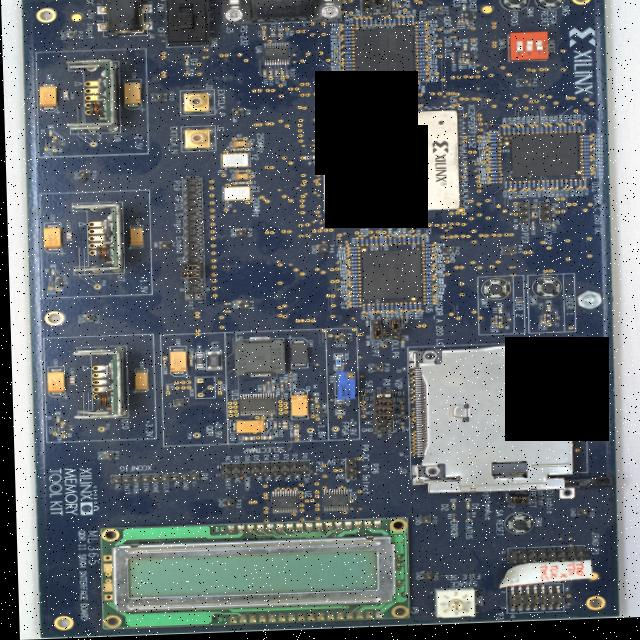-component text- -0 N-: (542, 51, 547, 59)
-component text- -1 2 3-: (515, 55, 541, 61)
-component text- -106 16K 129-: (129, 232, 139, 242), (134, 376, 143, 386)
-component text- -107C N48Y2-: (47, 377, 59, 389), (44, 234, 56, 245), (41, 92, 52, 103)
-component text- -22Y 6K 313-: (239, 424, 255, 433)
-component text- -2R5SA 6 3913J-: (234, 348, 279, 374)
-component text- -337 6K 146-: (290, 402, 302, 412), (169, 359, 180, 369), (126, 90, 136, 100)
-component text- -747844-2-: (261, 10, 300, 17)
-component text- -E EG-2121 200 000P OHPA42AA-: (226, 190, 245, 200)
-component text- -E EG-2121 250 000P OHPA42BA-: (223, 157, 244, 167)
-component text- -LCX 591 PWER-: (272, 500, 284, 510), (323, 498, 335, 507)
-component text- -MAXIM MAX3316E CUP 252-: (266, 50, 287, 58)
-component text- -MXJ 588-: (540, 370, 560, 386)
-component text- -SAMSUNG 422 K7R323684M-FC20-: (517, 154, 570, 169), (377, 35, 396, 74), (376, 258, 395, 297)
-component text- -XILINX VIRTEX-II PRO XC2VP20TM FF1152BGB0333 D1276371A 6C Powe: (328, 128, 446, 207)
-component text- -Y 102-: (343, 384, 349, 400)
-component text- 0: (435, 605, 442, 610)
-component text- 1: (439, 598, 447, 603)
-component text- 100: (335, 407, 339, 412)
-component text- 16: (212, 618, 222, 624)
-component text- 2: (448, 595, 454, 599)
-component text- 22R6: (195, 359, 200, 365)
-component text- 2R2J: (207, 358, 214, 367)
-component text- 3: (457, 598, 463, 602)
-component text- 32: (209, 528, 222, 533)
-component text- 342C: (338, 386, 343, 400)
-component text- 4: (460, 604, 467, 608)
-component text- 4750: (333, 361, 338, 368)
-component text- 5: (458, 611, 464, 616)
-component text- 6: (449, 615, 454, 619)
-component text- 7: (439, 611, 445, 617)
-component text- T2: (395, 584, 401, 588)
-component text- T4: (395, 564, 401, 569)
-component text- T5: (396, 559, 401, 563)
-electrolytic capacitor- C28: (286, 391, 305, 421)
-electrolytic capacitor- C287: (132, 369, 146, 393)
-electrolytic capacitor- C29: (121, 79, 142, 112)
-electrolytic capacitor- C297: (166, 347, 184, 378)
-electrolytic capacitor- C3: (228, 142, 248, 149)
-electrolytic capacitor- C346: (127, 226, 142, 250)
-electrolytic capacitor- C357: (42, 222, 60, 254)
-electrolytic capacitor- C361: (38, 82, 57, 112)
-electrolytic capacitor- C363: (44, 367, 63, 397)
-electrolytic capacitor- C376: (226, 420, 268, 435)
-electrolytic capacitor- C386: (287, 339, 305, 371)
-electrolytic capacitor- C4: (230, 175, 250, 181)
-test point- P13: (94, 427, 102, 433)
-test point- P14: (91, 284, 99, 291)
-test point- P15: (88, 141, 96, 148)
-test point- P16: (302, 430, 312, 437)
-test point- P17: (327, 428, 337, 435)
-test point- P18: (189, 434, 197, 440)
-test point- UNKNOWN: (478, 7, 494, 19), (68, 12, 83, 24), (69, 12, 83, 23)
2030: (272, 386, 276, 390)
2032: (285, 376, 289, 384)
2034: (423, 292, 430, 294)
2035: (423, 271, 430, 273)
2037: (422, 254, 430, 256)
2038: (423, 288, 430, 290)
2039: (422, 247, 430, 249)
2044: (358, 241, 361, 247)
2046: (419, 239, 422, 245)
2048: (414, 240, 418, 246)
2050: (405, 240, 408, 246)
2051: (363, 241, 366, 247)
2052: (284, 33, 288, 38), (380, 339, 383, 344)
2053: (353, 241, 356, 247)
2054: (360, 308, 363, 313)
2057: (343, 40, 350, 43)
2059: (343, 44, 351, 46)
2061: (284, 72, 287, 77), (345, 78, 352, 80)
2062: (343, 54, 351, 56)
2063: (344, 61, 351, 63)
2064: (343, 64, 351, 67)
2065: (344, 71, 351, 74)
2067: (344, 85, 352, 87)
2069: (389, 88, 392, 93)
2070: (403, 87, 405, 92)
2073: (356, 89, 359, 94)
2075: (365, 88, 368, 93)
2076: (398, 88, 401, 93)
2077: (412, 87, 415, 93)
2078: (351, 88, 354, 94)
2082: (360, 88, 363, 94)
2084: (370, 88, 373, 93)
2086: (393, 88, 396, 93)
2088: (407, 87, 410, 92)
2089: (416, 86, 419, 92)
2092: (571, 130, 575, 134)
2094: (562, 130, 565, 135)
2096: (557, 130, 560, 135)
2098: (543, 131, 546, 136)
2100: (398, 322, 401, 326)
2101: (538, 130, 542, 135)
2103: (529, 131, 533, 137)
2105: (520, 131, 523, 136)
2107: (510, 132, 514, 137)
2109: (501, 132, 505, 137)
2111: (349, 249, 355, 252)
2112: (581, 174, 589, 176)
2113: (488, 147, 496, 149)
2114: (489, 164, 497, 166)
2115: (489, 175, 497, 177)
2116: (489, 141, 497, 143)
2118: (489, 151, 496, 153)
2120: (489, 171, 497, 173)
2121: (488, 137, 496, 139)
2124: (489, 154, 496, 156)
2125: (489, 168, 497, 170)
2126: (489, 185, 497, 187)
2127: (581, 177, 589, 180)
2128: (349, 270, 356, 272)
2129: (386, 241, 390, 246)
2130: (391, 241, 394, 246)
2131: (392, 308, 396, 312)
2132: (387, 308, 391, 312)
2133: (369, 308, 372, 313)
2134: (411, 307, 414, 312)
2135: (401, 307, 405, 312)
2136: (378, 308, 381, 313)
2142: (384, 88, 387, 93)
2143: (379, 87, 382, 94)
2144: (354, 23, 358, 28)
2145: (349, 277, 356, 279)
2148: (489, 158, 497, 160)
2149: (489, 161, 496, 163)
2151: (581, 157, 588, 159)
2152: (580, 143, 588, 145)
2153: (581, 153, 589, 156)
2154: (581, 150, 588, 152)
2155: (581, 163, 589, 166)
2157: (348, 280, 356, 283)
2161: (359, 22, 362, 28)
2162: (415, 307, 419, 312)
2164: (364, 308, 368, 313)
2168: (406, 21, 409, 27)
2170: (349, 290, 356, 293)
2173: (406, 307, 410, 312)
2175: (582, 180, 590, 183)
2178: (581, 147, 588, 149)
2179: (348, 256, 355, 259)
2181: (348, 263, 356, 265)
2182: (349, 294, 356, 296)
2184: (581, 140, 588, 142)
2185: (349, 301, 357, 303)
2187: (349, 253, 355, 255)
2190: (348, 260, 356, 262)
2192: (348, 266, 355, 269)
2194: (348, 273, 356, 276)
2196: (349, 283, 356, 286)
2198: (349, 287, 356, 289)
2201: (349, 297, 356, 300)
2203: (349, 304, 356, 306)
2205: (349, 308, 357, 310)
2207: (423, 306, 430, 308)
2209: (423, 302, 430, 304)
2212: (423, 295, 430, 297)
2214: (423, 285, 430, 287)
2216: (423, 282, 429, 284)
2223: (422, 265, 429, 267)
2225: (422, 258, 430, 260)
2234: (581, 170, 589, 173), (263, 385, 267, 391), (282, 384, 285, 391), (363, 22, 367, 27), (400, 240, 403, 246), (396, 240, 399, 246), (489, 178, 497, 180), (489, 182, 497, 184), (581, 167, 589, 169), (417, 69, 425, 71), (417, 73, 425, 75), (417, 76, 425, 78), (422, 261, 430, 263), (373, 308, 377, 312), (534, 131, 537, 136), (372, 13, 375, 18), (410, 21, 413, 26), (397, 21, 400, 26), (392, 22, 395, 27), (387, 22, 390, 27), (383, 22, 386, 27), (378, 22, 381, 27), (373, 22, 376, 27), (369, 22, 372, 27), (375, 88, 378, 93), (409, 240, 412, 245), (382, 241, 385, 246), (377, 241, 380, 246), (372, 241, 375, 246), (367, 241, 370, 246), (397, 308, 400, 313), (489, 144, 496, 146), (581, 160, 588, 162), (417, 32, 424, 34), (417, 38, 424, 40), (417, 42, 424, 44), (417, 49, 424, 51), (417, 52, 424, 54), (417, 56, 424, 58), (417, 59, 424, 61), (417, 62, 424, 64), (417, 79, 424, 81), (422, 251, 429, 253), (423, 268, 430, 270), (423, 299, 430, 301), (423, 275, 429, 277), (423, 278, 429, 280), (383, 308, 386, 312), (402, 22, 404, 26), (391, 0, 394, 2)
2243: (506, 35, 548, 66)
2247: (163, 0, 208, 49)
2249: (52, 109, 60, 116), (56, 250, 64, 257), (58, 394, 66, 401), (138, 107, 145, 114), (283, 337, 291, 343), (180, 375, 188, 381), (265, 418, 272, 424), (224, 147, 229, 151), (226, 179, 230, 184), (129, 391, 133, 395), (126, 248, 130, 251)
2252: (346, 421, 354, 439), (211, 422, 219, 440)
2259: (137, 276, 146, 295)
2260: (314, 424, 322, 441)
2270: (133, 133, 142, 151), (323, 461, 341, 468), (390, 430, 406, 435)
2277: (140, 421, 151, 439)
2289: (374, 6, 379, 17), (363, 338, 368, 349), (512, 222, 516, 233)
2341: (84, 0, 94, 40)
2342: (357, 457, 367, 497)
2352: (534, 494, 550, 519)
2365: (166, 127, 177, 155)
2366: (214, 91, 224, 118)
2370: (435, 577, 476, 584)
2380: (171, 196, 182, 265)
2398: (587, 536, 595, 560)
2423: (83, 530, 96, 566)
2514: (430, 309, 441, 349)
2515: (440, 19, 451, 61)
2516: (590, 198, 600, 239)
2517: (73, 530, 85, 621)
2524: (239, 27, 247, 48)
2542: (491, 513, 500, 540)
2594: (563, 300, 571, 320)
2595: (512, 301, 521, 321)
2598: (186, 482, 194, 488)
2612: (44, 467, 91, 518)
2644: (195, 302, 200, 305), (427, 615, 431, 618), (209, 5, 215, 7), (147, 2, 153, 4), (192, 177, 198, 179), (515, 494, 521, 496), (496, 610, 501, 612), (400, 458, 405, 460), (430, 74, 432, 79), (582, 558, 584, 562), (457, 117, 461, 119), (383, 390, 387, 392), (307, 472, 309, 476)
2655: (568, 179, 574, 182), (457, 144, 461, 148)
2661: (461, 147, 466, 151)
2671: (560, 608, 566, 613), (457, 150, 461, 154)
2673: (44, 289, 49, 295)
2680: (560, 591, 565, 596), (461, 153, 465, 157)
2682: (457, 155, 462, 159), (496, 562, 502, 565)
2685: (461, 158, 466, 162), (497, 554, 501, 558)
2690: (212, 474, 218, 479), (458, 161, 462, 165)
2692: (212, 466, 218, 471), (462, 164, 466, 168)
2693: (458, 166, 462, 170)
2695: (330, 30, 338, 33)
2700: (503, 508, 511, 512), (582, 551, 585, 555), (307, 463, 310, 467), (183, 177, 189, 179), (497, 595, 502, 597), (373, 390, 378, 392), (208, 19, 213, 21), (96, 4, 101, 6), (460, 120, 464, 122)
2701: (462, 169, 466, 173)
2704: (250, 199, 259, 219)
2706: (458, 172, 462, 176)
2707: (331, 74, 339, 77)
2710: (462, 175, 466, 179)
2714: (457, 177, 462, 181)
2715: (462, 181, 467, 185)
2718: (393, 372, 399, 376), (457, 183, 462, 187)
2719: (255, 134, 263, 155)
2721: (462, 186, 466, 190), (395, 455, 399, 459)
2722: (458, 189, 462, 193)
2723: (462, 192, 466, 196)
2724: (458, 194, 462, 198)
2726: (159, 368, 165, 376)
2728: (208, 32, 214, 34), (384, 28, 389, 30), (457, 122, 461, 124), (470, 615, 474, 617), (96, 21, 100, 23)
2729: (462, 198, 467, 202), (264, 391, 268, 395)
2732: (383, 436, 389, 440), (458, 200, 462, 204), (203, 289, 207, 293)
2733: (373, 436, 379, 440), (176, 289, 182, 293), (462, 202, 467, 206)
2734: (459, 205, 463, 209), (373, 302, 377, 306)
2736: (462, 209, 466, 213)
2745: (146, 20, 152, 22), (159, 0, 164, 2), (380, 29, 384, 31), (376, 29, 380, 31), (366, 29, 370, 31), (361, 29, 365, 31), (460, 125, 464, 127), (470, 593, 474, 595)
2750: (479, 143, 485, 147)
2754: (389, 28, 393, 31)
2756: (301, 25, 305, 29), (159, 21, 165, 23), (457, 128, 461, 130)
2757: (398, 370, 403, 374)
2759: (371, 29, 375, 32)
2762: (331, 476, 341, 482)
2766: (426, 594, 430, 597), (160, 41, 165, 43), (460, 131, 464, 133)
2769: (456, 134, 461, 136)
2775: (460, 136, 465, 138)
2779: (375, 100, 379, 104)
2784: (457, 139, 461, 141)
2791: (449, 110, 453, 113)
2808: (373, 112, 377, 116)
2809: (369, 109, 373, 113)
2810: (365, 112, 369, 116)
2813: (361, 109, 365, 113)
2817: (357, 112, 361, 116)
2818: (353, 109, 357, 113)
2819: (350, 112, 354, 116)
2820: (346, 109, 350, 114)
2821: (342, 113, 346, 117)
2822: (334, 113, 338, 117)
2823: (330, 110, 334, 114)
2824: (327, 113, 331, 117)
2826: (323, 111, 327, 115)
2833: (445, 110, 449, 112)
2837: (221, 479, 228, 491)
2843: (441, 111, 445, 113)
2844: (248, 182, 255, 186)
2845: (280, 82, 286, 88)
2856: (268, 82, 273, 88)
2867: (262, 81, 267, 87)
2878: (274, 79, 279, 86)
2889: (256, 33, 262, 39)
2955: (247, 149, 253, 153)
3036: (303, 388, 307, 394)
3044: (136, 362, 142, 370)
3047: (185, 350, 191, 356), (131, 73, 136, 79)
3055: (172, 339, 178, 347)
3057: (248, 140, 254, 144)
3069: (167, 384, 172, 390)
3086: (219, 385, 223, 393)
3107: (133, 218, 138, 226)
3117: (64, 222, 69, 230)
3118: (48, 214, 53, 222)
3119: (68, 91, 74, 100)
3120: (395, 1, 399, 7)
3121: (44, 74, 50, 82)
3122: (66, 368, 72, 376)
3123: (49, 359, 56, 367)
3125: (383, 338, 387, 345)
3126: (532, 213, 536, 220)
3131: (226, 435, 231, 443)
3132: (235, 437, 239, 445)
3133: (258, 433, 268, 437)
3134: (285, 424, 290, 432)
3136: (271, 432, 275, 440)
3137: (254, 386, 258, 394)
3138: (268, 379, 272, 387)
3139: (276, 379, 281, 387)
3140: (289, 383, 293, 391)
3141: (286, 432, 290, 440)
3142: (305, 342, 310, 350)
3153: (249, 173, 255, 176)
3188: (227, 171, 233, 175)
3199: (235, 136, 241, 140)
3245: (159, 482, 166, 494)
3266: (300, 477, 306, 485)
3267: (438, 109, 442, 111)
3268: (297, 455, 304, 461)
3269: (468, 507, 476, 513), (288, 455, 294, 461)
3270: (535, 307, 541, 313)
3271: (490, 311, 494, 317)
3280: (437, 507, 445, 514), (279, 456, 285, 462)
3287: (452, 3, 460, 11), (269, 456, 275, 462)
3288: (452, 42, 460, 50), (259, 456, 266, 462)
3290: (249, 456, 255, 463), (43, 416, 49, 420)
3291: (241, 457, 247, 463), (41, 269, 47, 273)
3292: (230, 457, 236, 464), (38, 129, 44, 133)
3293: (309, 387, 315, 391)
3294: (189, 59, 197, 68)
3306: (139, 483, 145, 493)
3315: (541, 228, 549, 238), (388, 344, 396, 354), (347, 0, 355, 2)
3316: (468, 41, 477, 55), (148, 482, 155, 495)
3326: (434, 111, 438, 113)
3355: (445, 523, 454, 541)
3358: (430, 109, 434, 112)
3430: (548, 14, 557, 29), (338, 424, 346, 438)
3438: (426, 111, 430, 113)
3439: (74, 315, 81, 325), (410, 519, 417, 528), (149, 94, 156, 103), (514, 82, 520, 92), (72, 171, 78, 181), (308, 248, 315, 256), (497, 250, 503, 259), (411, 575, 417, 584), (228, 230, 234, 239), (229, 302, 235, 311), (214, 500, 220, 509), (94, 452, 100, 461), (179, 482, 185, 491), (59, 31, 65, 40), (427, 9, 432, 19), (566, 513, 572, 521), (326, 86, 332, 94), (447, 258, 453, 266), (364, 367, 370, 375), (358, 431, 370, 435), (332, 346, 344, 350), (151, 243, 157, 249), (164, 403, 169, 410), (231, 118, 235, 124)
3446: (423, 110, 427, 112)
3482: (467, 2, 477, 16), (120, 484, 126, 496)
3488: (419, 111, 423, 113)
3489: (204, 84, 212, 91)
3501: (215, 126, 223, 134)
3510: (395, 469, 403, 477)
3513: (147, 33, 155, 41)
3514: (225, 28, 233, 36)
3554: (416, 109, 420, 111), (338, 112, 342, 114)
3559: (411, 111, 415, 113)
3561: (276, 26, 282, 30)
3563: (269, 26, 275, 30)
3564: (208, 342, 217, 351)
3565: (305, 163, 315, 168)
3566: (231, 335, 241, 341)
3586: (407, 110, 411, 112)
3593: (511, 209, 516, 215), (363, 323, 367, 329), (375, 0, 379, 2)
3595: (546, 44, 555, 58)
3627: (403, 112, 407, 114)
3628: (281, 477, 287, 484), (169, 482, 176, 488), (110, 484, 116, 491), (221, 457, 227, 463), (290, 477, 296, 483), (271, 477, 277, 483), (262, 478, 268, 484), (253, 478, 259, 484), (230, 479, 236, 485), (390, 422, 398, 426), (362, 423, 370, 427)
3629: (156, 28, 165, 39), (553, 223, 557, 229), (355, 12, 359, 18), (402, 338, 406, 344)
3631: (156, 5, 164, 13), (553, 207, 557, 212), (401, 322, 405, 327), (355, 0, 359, 2)
3635: (399, 110, 404, 112)
3638: (167, 93, 173, 102)
3639: (180, 398, 187, 405)
3640: (312, 464, 320, 475)
3641: (101, 424, 107, 430)
3642: (99, 281, 105, 287)
3643: (95, 135, 101, 141)
3644: (304, 436, 309, 442)
3645: (328, 435, 333, 441)
3646: (183, 434, 189, 440)
3647: (171, 181, 179, 192)
3649: (340, 0, 347, 2)
3651: (541, 239, 550, 249)
3652: (519, 237, 527, 247)
3655: (367, 466, 375, 476)
3656: (442, 9, 448, 18)
3657: (245, 302, 251, 312)
3658: (91, 314, 98, 325)
3659: (505, 581, 516, 588), (491, 616, 499, 624)
3660: (585, 512, 591, 521)
3661: (427, 520, 434, 528)
3662: (344, 335, 350, 344)
3663: (231, 500, 239, 511)
3664: (109, 451, 116, 461)
3665: (89, 171, 95, 180)
3666: (243, 111, 249, 117)
3667: (76, 32, 82, 40)
3668: (245, 230, 251, 238)
3669: (381, 366, 387, 374)
3671: (428, 575, 434, 584)
3672: (168, 243, 174, 249)
3673: (452, 250, 458, 259)
3674: (530, 81, 536, 92)
3675: (320, 77, 326, 86)
3676: (515, 249, 521, 257)
3677: (326, 247, 332, 255)
3678: (184, 302, 191, 311)
3680: (406, 609, 414, 618)
3685: (389, 354, 397, 361)
3686: (368, 352, 377, 360)
3687: (379, 382, 387, 389)
3688: (197, 473, 205, 482), (357, 446, 365, 454)
3746: (510, 16, 518, 30), (129, 483, 136, 495)
3753: (466, 26, 474, 33)
3755: (466, 65, 475, 73)
3756: (63, 434, 69, 438)
3757: (55, 288, 61, 292)
3758: (56, 149, 62, 153)
3759: (319, 406, 323, 410)
3760: (551, 327, 557, 331)
3761: (502, 329, 506, 333)
3763: (202, 426, 210, 438)
3765: (375, 96, 379, 98), (396, 112, 400, 114)
3766: (215, 171, 220, 175)
3768: (457, 65, 461, 73)
3769: (460, 25, 465, 33)
3780: (461, 65, 466, 73)
3781: (456, 25, 460, 33)
3782: (450, 67, 455, 75)
3793: (45, 426, 50, 434)
3794: (188, 70, 194, 78)
3795: (48, 287, 53, 295)
3797: (46, 149, 51, 157)
3798: (54, 433, 58, 441)
3799: (193, 346, 198, 354)
3800: (306, 406, 311, 412)
3801: (186, 390, 191, 398)
3803: (42, 150, 47, 158)
3805: (341, 356, 346, 364)
3806: (342, 401, 347, 408)
3807: (540, 327, 544, 334)
3808: (535, 327, 540, 334)
3809: (491, 328, 496, 336)
3810: (487, 328, 492, 337)
3811: (467, 515, 472, 521)
3822: (370, 6, 375, 12), (443, 517, 447, 523)
3833: (428, 61, 436, 65), (428, 72, 437, 75)
3834: (405, 3, 409, 11)
3836: (427, 82, 437, 86)
3844: (429, 57, 437, 62), (429, 37, 437, 41), (427, 40, 435, 44), (429, 51, 436, 55), (428, 31, 436, 34)
3855: (430, 78, 438, 83), (429, 68, 437, 72), (428, 48, 436, 51)
3860: (426, 64, 436, 69)
3864: (423, 44, 433, 47)
3867: (424, 34, 434, 37)
3869: (427, 26, 437, 31)
3871: (426, 23, 436, 27)
3873: (330, 25, 340, 29)
3877: (226, 205, 230, 209)
3879: (330, 37, 340, 41)
3881: (329, 47, 339, 51)
3883: (329, 51, 339, 53)
3885: (330, 57, 340, 60)
3887: (330, 68, 340, 71)
3892: (354, 80, 364, 85)
3894: (329, 33, 339, 37)
3896: (549, 214, 554, 221)
3897: (550, 230, 554, 237)
3898: (532, 203, 536, 211)
3899: (529, 232, 533, 239)
3901: (500, 193, 506, 202)
3903: (510, 195, 516, 203)
3905: (521, 194, 525, 202)
3907: (530, 194, 535, 202)
3909: (540, 194, 544, 201)
3912: (545, 194, 549, 202)
3914: (558, 193, 562, 201)
3916: (563, 194, 567, 201)
3917: (573, 193, 577, 201)
3919: (506, 195, 511, 203)
3922: (516, 195, 521, 203)
3924: (525, 194, 531, 202)
3926: (534, 194, 540, 202)
3928: (549, 194, 553, 202)
3930: (553, 193, 558, 202)
3933: (568, 193, 572, 201)
3935: (577, 193, 582, 200)
3937: (582, 192, 587, 200)
3939: (580, 119, 585, 127)
3944: (566, 119, 570, 127)
3946: (552, 119, 556, 128)
3948: (547, 120, 551, 128)
3950: (533, 119, 537, 128)
3952: (525, 120, 529, 128)
3955: (515, 120, 519, 128)
3957: (506, 121, 510, 129)
3986: (281, 376, 285, 382)
3992: (272, 390, 276, 398)
3993: (435, 276, 443, 281)
3994: (290, 375, 294, 383)
3995: (279, 395, 286, 402)
3996: (275, 432, 280, 440)
3997: (435, 259, 443, 264), (435, 266, 443, 271)
3998: (432, 291, 442, 294)
3999: (433, 287, 444, 291)
4000: (433, 270, 443, 274)
4001: (381, 247, 386, 254), (395, 231, 399, 237)
4002: (429, 253, 439, 256)
4004: (433, 246, 443, 250)
4006: (408, 247, 414, 253), (400, 230, 404, 237), (372, 248, 376, 254), (368, 248, 372, 254)
4009: (358, 231, 362, 239)
4010: (377, 235, 381, 241)
4011: (422, 238, 427, 246)
4013: (413, 232, 419, 241)
4015: (405, 234, 409, 241)
4016: (576, 118, 580, 126)
4017: (362, 231, 366, 239)
4018: (288, 32, 294, 38), (377, 344, 381, 349)
4019: (349, 240, 353, 248)
4020: (358, 315, 362, 323)
4023: (330, 40, 340, 44)
4025: (329, 44, 339, 47)
4027: (287, 71, 295, 79), (338, 78, 346, 82)
4028: (329, 53, 340, 57)
4029: (330, 60, 340, 63)
4030: (329, 64, 339, 68)
4031: (330, 71, 340, 74)
4033: (341, 87, 351, 90)
4035: (389, 95, 393, 103)
4036: (402, 95, 408, 103)
4039: (356, 100, 361, 107)
4041: (365, 96, 369, 104)
4042: (398, 95, 403, 103)
4043: (412, 95, 416, 104)
4044: (352, 97, 356, 105)
4047: (396, 314, 400, 320), (398, 345, 402, 351)
4048: (360, 95, 365, 104)
4050: (369, 96, 374, 104)
4052: (393, 95, 399, 104)
4054: (408, 96, 412, 104)
4055: (420, 88, 424, 96)
4056: (411, 12, 415, 18), (381, 323, 385, 329)
4058: (571, 118, 575, 126)
4060: (562, 119, 566, 127)
4062: (557, 119, 561, 126)
4064: (543, 120, 547, 128)
4066: (398, 327, 402, 333)
4067: (538, 120, 542, 128)
4069: (529, 120, 533, 128)
4071: (520, 120, 524, 128)
4073: (511, 122, 515, 129)
4075: (501, 121, 505, 129)
4077: (335, 249, 343, 252)
4078: (591, 173, 601, 176)
4079: (476, 146, 486, 150)
4080: (470, 163, 480, 166)
4081: (477, 173, 487, 178)
4082: (479, 139, 489, 143)
4083: (479, 180, 487, 185)
4084: (475, 149, 485, 154)
4086: (473, 171, 483, 174)
4087: (487, 133, 497, 137)
4089: (479, 177, 487, 181)
4090: (498, 153, 508, 157)
4091: (479, 167, 489, 170)
4092: (478, 184, 488, 189)
4093: (592, 177, 602, 180)
4094: (336, 269, 345, 273), (383, 315, 387, 321)
4095: (385, 231, 390, 239)
4096: (391, 234, 395, 241)
4097: (392, 312, 396, 319)
4098: (387, 315, 391, 322)
4099: (368, 315, 372, 322)
4100: (412, 315, 416, 323)
4101: (402, 315, 406, 323)
4102: (378, 313, 383, 320)
4103: (402, 13, 406, 19)
4108: (384, 96, 389, 104)
4109: (380, 96, 384, 104)
4110: (344, 16, 348, 24)
4111: (337, 276, 345, 280), (397, 12, 401, 18)
4114: (479, 156, 489, 161)
4115: (475, 161, 485, 164)
4116: (593, 169, 601, 173), (594, 159, 602, 162), (593, 166, 601, 169)
4117: (591, 156, 601, 159)
4118: (591, 142, 601, 146)
4119: (591, 152, 601, 156)
4120: (591, 149, 601, 152)
4121: (591, 162, 601, 166)
4123: (340, 279, 348, 283)
4128: (348, 20, 352, 26)
4129: (416, 315, 420, 322)
4131: (364, 314, 368, 322)
4135: (406, 13, 410, 21)
4137: (426, 54, 434, 58), (336, 291, 345, 294)
4139: (592, 138, 602, 141)
4141: (407, 312, 411, 320)
4143: (591, 180, 601, 183)
4146: (591, 146, 601, 149)
4147: (334, 256, 344, 259)
4149: (335, 263, 345, 266)
4150: (327, 378, 331, 386)
4151: (337, 294, 345, 297)
4153: (340, 300, 348, 303)
4155: (335, 252, 343, 256)
4158: (336, 259, 344, 262)
4160: (336, 266, 345, 270)
4162: (337, 273, 345, 276)
4164: (337, 283, 345, 287)
4166: (337, 287, 345, 291)
4169: (338, 297, 346, 301)
4171: (337, 304, 345, 308)
4173: (338, 308, 346, 312)
4175: (432, 305, 440, 309)
4177: (432, 300, 440, 304)
4179: (435, 274, 441, 277)
4180: (433, 294, 441, 298)
4182: (433, 284, 441, 288)
4184: (433, 280, 441, 285)
4190: (433, 250, 439, 253), (435, 298, 440, 301)
4191: (432, 263, 440, 267)
4193: (432, 257, 440, 260)
4202: (240, 479, 247, 493)
4204: (524, 495, 533, 513), (540, 15, 548, 32)
4240: (362, 383, 370, 390)
4242: (239, 448, 281, 455)
4263: (460, 523, 469, 543)
4266: (530, 521, 538, 531)
4270: (470, 599, 479, 610)
4271: (497, 42, 506, 52)
4272: (525, 11, 533, 21)
4273: (561, 9, 569, 20)
4274: (527, 299, 535, 309)
4275: (477, 302, 486, 312)
4276: (209, 39, 217, 49)
4281: (445, 583, 474, 591)
4283: (478, 495, 489, 524)
4284: (392, 110, 396, 112)
4298: (545, 568, 554, 584), (391, 407, 402, 411), (359, 406, 370, 410)
4299: (563, 566, 571, 581), (391, 394, 402, 399), (357, 399, 369, 403)
4300: (572, 567, 580, 581), (357, 392, 369, 396), (390, 401, 401, 405)
4302: (535, 567, 545, 585), (390, 416, 402, 420), (358, 414, 370, 418)
4340: (388, 112, 392, 114)
4342: (117, 419, 127, 430)
4343: (418, 14, 426, 24)
4344: (589, 186, 597, 196)
4345: (228, 391, 236, 403)
4352: (300, 492, 308, 501)
4363: (345, 495, 353, 503)
4367: (254, 47, 262, 56)
4368: (422, 308, 431, 316)
4369: (448, 99, 456, 107)
4370: (114, 275, 123, 283)
4372: (112, 135, 120, 143)
4384: (384, 110, 388, 112)
4385: (391, 382, 399, 392)
4402: (380, 112, 384, 115)
4404: (555, 577, 563, 582)
4413: (466, 108, 475, 152)
4414: (115, 465, 150, 472)
4415: (571, 53, 593, 99)
4421: (377, 110, 381, 113)
4422: (251, 188, 259, 194)
4424: (249, 155, 257, 163)
4433: (519, 228, 527, 236), (368, 344, 376, 352)
4436: (505, 618, 511, 622)
4440: (463, 16, 475, 26)
4443: (465, 55, 477, 66)
4444: (57, 425, 71, 434)
4445: (52, 279, 64, 288)
4447: (50, 140, 63, 149)
4448: (312, 410, 324, 419)
4449: (543, 317, 557, 327)
4450: (495, 319, 508, 328)
4480: (69, 346, 126, 420)
4487: (69, 202, 122, 276)
4488: (63, 60, 120, 136)
button SW1: (500, 516, 530, 539)
button SW4: (499, 0, 529, 15)
button SW5: (532, 0, 565, 15)
button SW6: (528, 280, 560, 303)
button SW7: (477, 281, 510, 304)
capacitor: (185, 360, 191, 368), (390, 3, 395, 11)
capacitor C10: (234, 183, 246, 186)
capacitor C100: (279, 71, 283, 79)
capacitor C110: (267, 71, 271, 79)
capacitor C120: (261, 71, 266, 79)
capacitor C130: (273, 71, 278, 79)
capacitor C140: (261, 31, 265, 39)
capacitor C20: (233, 149, 245, 153)
capacitor C299: (159, 360, 165, 368)
capacitor C310: (162, 385, 166, 393)
capacitor C328: (214, 385, 218, 394)
capacitor C359: (64, 231, 70, 241)
capacitor C36: (61, 90, 67, 100)
capacitor C364: (66, 376, 73, 385)
capacitor C369: (379, 330, 384, 338)
capacitor C37: (528, 215, 533, 223)
capacitor C378: (239, 438, 252, 442)
capacitor C379: (257, 437, 270, 441)
capacitor C38: (279, 422, 285, 432)
capacitor C381: (270, 423, 274, 431)
capacitor C382: (259, 386, 263, 394)
capacitor C383: (268, 386, 272, 394)
capacitor C384: (277, 387, 281, 394)
capacitor C385: (285, 385, 288, 390)
capacitor C39: (290, 430, 296, 440)
capacitor C50: (237, 172, 244, 174)
capacitor C60: (234, 140, 241, 142)
clock Y1o: (220, 187, 250, 203)
clock Y3: (218, 154, 249, 170)
connector: (192, 378, 211, 400)
connector J10: (178, 91, 214, 118)
connector J20: (178, 127, 216, 154)
connector J30: (402, 343, 588, 498)
connector J5: (94, 0, 151, 38)
connector J6: (220, 0, 341, 28)
connector P10: (502, 549, 582, 567)
connector P11: (153, 94, 166, 103)
connector P12: (170, 400, 182, 408)
connector P13: (217, 461, 307, 480)
connector P2: (179, 179, 203, 265)
connector P21: (360, 10, 371, 18)
connector P22: (378, 0, 390, 17)
connector P23: (537, 206, 549, 228)
connector P24: (516, 206, 528, 228)
connector P28: (430, 10, 442, 18)
connector P29: (235, 302, 248, 310)
connector P3: (81, 315, 92, 323)
connector P30: (502, 587, 560, 618)
connector P31: (572, 511, 584, 520)
connector P32: (415, 517, 427, 526)
connector P33: (332, 338, 345, 346)
connector P34: (220, 500, 232, 508)
connector P35: (99, 451, 111, 461)
connector P36: (76, 171, 89, 181)
connector P37: (230, 110, 242, 119)
connector P38: (64, 31, 77, 39)
connector P39: (234, 230, 244, 239)
connector P4: (368, 366, 380, 375)
connector P41: (417, 573, 429, 584)
connector P42: (156, 242, 168, 251)
connector P43: (439, 249, 452, 258)
connector P44: (518, 82, 530, 91)
connector P45: (324, 77, 336, 86)
connector P46: (501, 250, 514, 258)
connector P47: (314, 246, 326, 256)
connector P49: (181, 279, 203, 302)
connector P7: (387, 336, 397, 343)
connector P8: (367, 322, 378, 329)
connector P9: (370, 423, 390, 436)
connector RUN: (106, 473, 196, 484), (341, 460, 353, 482)
display unknown: (95, 518, 410, 630)
ic U11: (353, 30, 413, 80)
ic U12: (510, 137, 577, 181)
ic U13: (235, 395, 274, 418)
ic U2: (268, 493, 294, 516)
ic U3: (319, 491, 345, 514)
ic U4: (262, 44, 289, 67)
ic U5: (360, 253, 419, 302)
ic U6: (319, 113, 458, 217)
inductor L10: (276, 30, 283, 39)
inductor L3: (203, 351, 219, 372)
inductor L3 -3R3 X4-: (269, 30, 276, 40)
inductor L4: (302, 157, 315, 162)
inductor L5: (231, 338, 282, 380)
jumper P20: (360, 0, 372, 11)
jumper P6: (386, 322, 399, 336)
jumper P7: (367, 328, 380, 344)
jumper P8: (369, 392, 390, 403), (369, 402, 391, 410), (369, 409, 391, 417), (369, 416, 391, 424)
jumper unknown: (501, 496, 526, 509), (178, 272, 203, 280), (179, 265, 202, 272)
led D1: (462, 505, 466, 513)
led D10: (543, 308, 549, 316)
led D11: (496, 310, 500, 318)
led D2: (448, 506, 452, 514)
led D3: (461, 7, 466, 14)
led D4: (461, 46, 467, 55)
led D5: (53, 415, 57, 423)
led D6: (49, 268, 53, 276)
led D7: (47, 130, 51, 136)
led D8: (310, 398, 316, 406)
led D9: (183, 60, 189, 67)
pads R113: (450, 58, 454, 64)
pads R312: (274, 424, 278, 430)
pads R40: (398, 337, 401, 343)
pads R41: (378, 321, 382, 326)
potentiometer SW2: (331, 373, 354, 402)
potentiometer SW6: (430, 591, 471, 622)
resistor R10: (221, 171, 224, 176)
resistor R101: (458, 59, 461, 64)
resistor R102: (460, 19, 463, 24)
resistor R112: (461, 59, 464, 64)
resistor R113: (457, 19, 460, 25)
resistor R124: (50, 428, 53, 433)
resistor R125: (184, 70, 188, 75)
resistor R126: (48, 281, 52, 287)
resistor R128: (46, 143, 50, 148)
resistor R129: (53, 428, 57, 433)
resistor R13: (191, 353, 202, 372)
resistor R130: (308, 412, 311, 417)
resistor R132: (45, 282, 48, 287)
resistor R133: (43, 143, 46, 148)
resistor R135: (330, 355, 340, 374)
resistor R136: (331, 401, 341, 418)
resistor R137: (540, 320, 543, 325)
resistor R138: (537, 320, 540, 325)
resistor R139: (492, 320, 495, 326)
resistor R14: (489, 320, 492, 327)
resistor R140: (462, 515, 466, 521)
resistor R150: (447, 516, 451, 521), (372, 0, 374, 3)
resistor R161: (390, 12, 394, 17)
resistor R163 R015: (417, 83, 425, 85)
resistor R181: (417, 45, 424, 47)
resistor R185: (417, 66, 424, 68)
resistor R191: (417, 35, 424, 37)
resistor R193: (417, 28, 423, 30)
resistor R195: (416, 25, 423, 27)
resistor R197: (343, 27, 350, 29)
resistor R199: (343, 30, 350, 32)
resistor R20: (222, 205, 226, 211)
resistor R201: (344, 37, 351, 39)
resistor R203: (343, 47, 350, 50)
resistor R205: (343, 51, 350, 53)
resistor R207: (343, 57, 351, 60)
resistor R209: (344, 68, 351, 70)
resistor R211: (344, 74, 351, 77)
resistor R213: (344, 81, 352, 84)
resistor R215: (344, 33, 351, 36)
resistor R217: (549, 207, 552, 213)
resistor R218: (550, 223, 553, 229)
resistor R219: (529, 208, 532, 213)
resistor R22: (529, 225, 533, 229)
resistor R221: (502, 187, 506, 193)
resistor R223: (511, 187, 515, 192)
resistor R226: (521, 187, 525, 192)
resistor R227: (530, 187, 533, 192)
resistor R229: (539, 186, 543, 191)
resistor R232: (544, 186, 548, 191)
resistor R233: (558, 185, 562, 191)
resistor R236: (563, 186, 567, 191)
resistor R237: (572, 185, 575, 191)
resistor R24: (507, 187, 510, 193)
resistor R242: (516, 187, 520, 193)
resistor R243: (526, 187, 529, 192)
resistor R245: (535, 186, 538, 192)
resistor R247: (549, 186, 553, 191)
resistor R249: (553, 186, 557, 191)
resistor R251: (567, 186, 571, 191)
resistor R253: (577, 185, 580, 190)
resistor R255: (582, 185, 585, 190)
resistor R257: (580, 130, 584, 135)
resistor R259: (575, 130, 579, 135)
resistor R261: (566, 130, 570, 135)
resistor R263: (552, 130, 556, 136)
resistor R265: (548, 131, 551, 136)
resistor R269: (525, 131, 528, 136)
resistor R271: (515, 131, 519, 136)
resistor R273: (506, 131, 509, 136)
